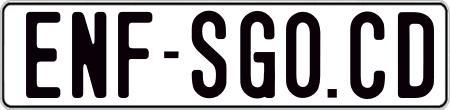0: (283, 9, 321, 100)
C: (348, 12, 387, 102)
D: (397, 12, 437, 98)
E: (26, 12, 64, 98)
F: (118, 10, 155, 97)
G: (240, 8, 277, 101)
N: (70, 12, 108, 103)
S: (190, 11, 228, 100)
